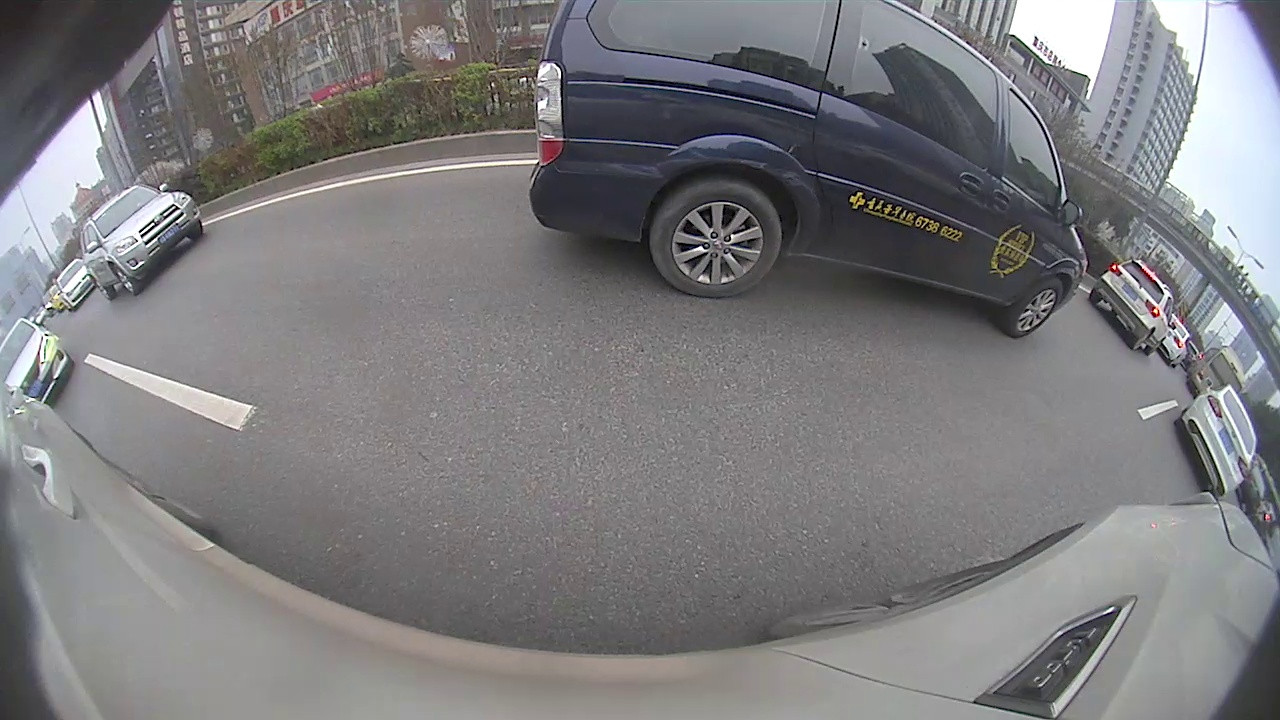car: (528, 2, 1089, 342), (77, 181, 206, 301), (1173, 384, 1260, 498), (1092, 256, 1178, 358)
front: (1005, 280, 1066, 340), (108, 259, 137, 296)
rear: (651, 185, 782, 297)
